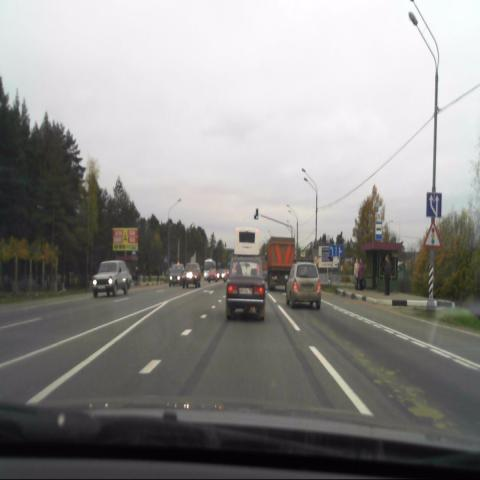1_8: (424, 221, 442, 247)
5_15_1: (329, 245, 343, 257)
5_15_3: (425, 192, 442, 217)
5_16: (375, 221, 383, 240)
